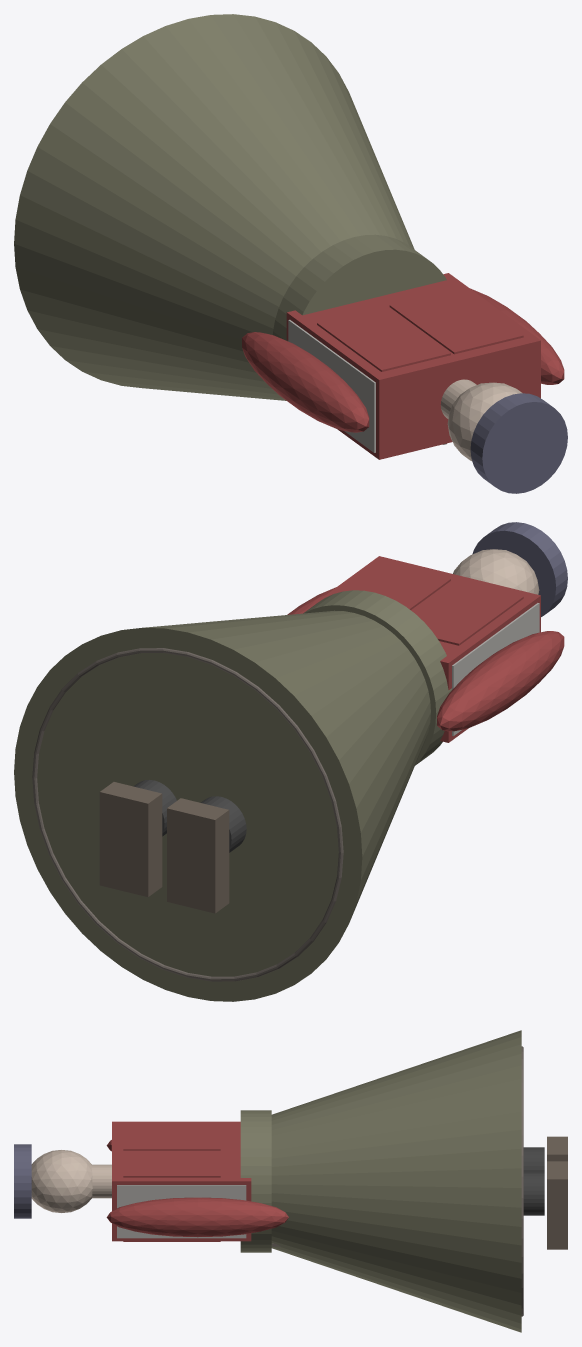
The model's file is MASTER_115_STAGE3_DETAIL.glb.
3 renders of one model, top to bottom at view 1: azimuth 30°, elevation 25°; view 2: azimuth 150°, elevation 25°; view 3: azimuth 270°, elevation 25°, orthographic. The views are drawn at different scales.
Visible parts, largest first — view 1: slot_lower_main__fund_i_gjatë, slot_upper_inner__këmishë, slot_waist__brez, slot_headwear__mbulesë_koke, slot_upper_inner_sleeve_L, slot_upper_outer__jelek/xhamadan_L, slot_upper_outer__jelek/xhamadan_R, mannequin_torso, mannequin_head, slot_upper_inner_sleeve_R; view 2: slot_lower_main__fund_i_gjatë, slot_footwear__opinga_R, slot_footwear__opinga_L, slot_upper_inner_sleeve_L, detail_skirt_hem, slot_waist__brez, slot_upper_outer__jelek/xhamadan_L, slot_headwear__mbulesë_koke, slot_upper_inner__këmishë, slot_upper_outer__jelek/xhamadan_R, mannequin_head, mannequin_torso (+2 smaller); view 3: slot_lower_main__fund_i_gjatë, slot_upper_inner_sleeve_R, slot_upper_inner__këmishë, mannequin_head, slot_waist__brez, slot_upper_outer__jelek/xhamadan_R, slot_upper_outer__jelek/xhamadan_L, mannequin_torso, slot_footwear__opinga_R, slot_headwear__mbulesë_koke, slot_legwear__çorape_R, detail_skirt_hem (+3 smaller).
Boxes of the visible parts, <box> form: slot_lower_main__fund_i_gjatë: <box>14,14,414,400</box>; slot_upper_inner__këmishë: <box>286,273,540,459</box>; slot_waist__brez: <box>273,234,446,341</box>; slot_headwear__mbulesë_koke: <box>470,393,567,493</box>; slot_upper_inner_sleeve_L: <box>242,332,369,432</box>; slot_upper_outer__jelek/xhamadan_L: <box>317,306,450,371</box>; slot_upper_outer__jelek/xhamadan_R: <box>389,288,523,354</box>; mannequin_torso: <box>288,319,375,452</box>; mannequin_head: <box>447,382,522,460</box>; slot_upper_inner_sleeve_R: <box>470,288,564,384</box>; slot_lower_main__fund_i_gjatë: <box>14,610,430,1001</box>; slot_footwear__opinga_R: <box>99,782,162,896</box>; slot_footwear__opinga_L: <box>167,798,229,913</box>; slot_upper_inner_sleeve_L: <box>437,631,564,731</box>; detail_skirt_hem: <box>32,648,343,981</box>; slot_waist__brez: <box>303,590,451,765</box>; slot_upper_outer__jelek/xhamadan_L: <box>412,579,523,645</box>; slot_headwear__mbulesë_koke: <box>472,522,567,616</box>; slot_upper_inner__këmishë: <box>301,556,540,742</box>; slot_upper_outer__jelek/xhamadan_R: <box>341,562,450,609</box>; mannequin_head: <box>453,549,539,594</box>; mannequin_torso: <box>452,603,539,736</box>; slot_lower_main__fund_i_gjatë: <box>271,1030,521,1332</box>; slot_upper_inner_sleeve_R: <box>106,1197,288,1237</box>; slot_upper_inner__këmishë: <box>112,1121,251,1241</box>; mannequin_head: <box>31,1150,92,1212</box>; slot_waist__brez: <box>240,1110,271,1252</box>; slot_upper_outer__jelek/xhamadan_R: <box>123,1150,220,1241</box>; slot_upper_outer__jelek/xhamadan_L: <box>123,1123,220,1150</box>; mannequin_torso: <box>117,1185,246,1238</box>; slot_footwear__opinga_R: <box>547,1161,567,1249</box>; slot_headwear__mbulesë_koke: <box>14,1144,31,1218</box>; slot_legwear__çorape_R: <box>523,1172,544,1215</box>; detail_skirt_hem: <box>521,1046,523,1316</box>.
Size of the model in its own units: 0.9355 by 0.9355 by 1.71.
